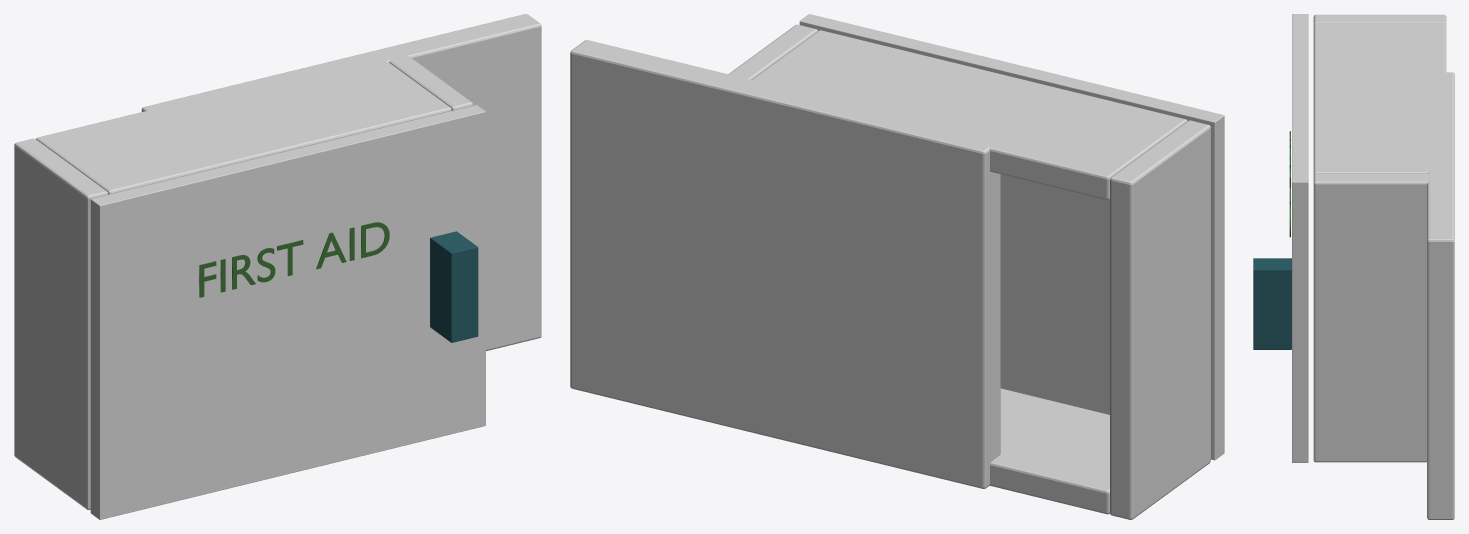
File: source-edit.glb
The picture shows the model from 3 angles, left to right: view 1: azimuth 30°, elevation 25°; view 2: azimuth 150°, elevation 25°; view 3: azimuth 270°, elevation 25°; orthographic projection. The views are drawn at different scales.
Parts seen in each view (by area): view 1: Door_Panel, Shelf.001, Side, Case_Back, Handle, Editable_Label_FIRST_AID, Side.001; view 2: Case_Back, Side, Door_Panel, Shelf.001, Shelf, Side.001; view 3: Side.001, Shelf.001, Case_Back, Door_Panel, Handle, Side.
Boxes of the visible parts, left/top/right/bottom form: Door_Panel: left=90, top=105, right=485, bottom=519; Shelf.001: left=36, top=55, right=451, bottom=194; Side: left=14, top=138, right=108, bottom=509; Case_Back: left=141, top=14, right=541, bottom=351; Handle: left=430, top=231, right=478, bottom=342; Editable_Label_FIRST_AID: left=199, top=222, right=389, bottom=297; Side.001: left=383, top=50, right=473, bottom=110; Case_Back: left=570, top=40, right=1000, bottom=488; Side: left=1110, top=120, right=1210, bottom=519; Door_Panel: left=799, top=14, right=1224, bottom=460; Shelf.001: left=743, top=30, right=1187, bottom=199; Shelf: left=989, top=388, right=1109, bottom=514; Side.001: left=722, top=24, right=817, bottom=85; Side.001: left=1313, top=173, right=1444, bottom=462; Shelf.001: left=1313, top=24, right=1446, bottom=174; Case_Back: left=1427, top=72, right=1454, bottom=519; Door_Panel: left=1292, top=14, right=1308, bottom=462; Handle: left=1253, top=258, right=1291, bottom=349; Side: left=1313, top=14, right=1446, bottom=25.
Size of the model in its own units: 0.483 by 0.28 by 0.182.
